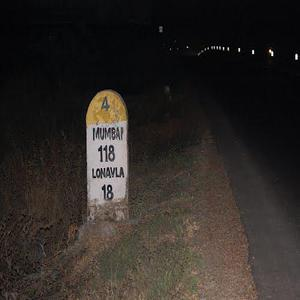kmstone: (81, 83, 132, 214)
